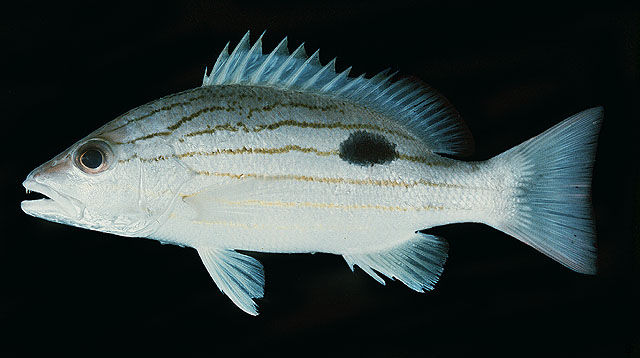fish: (20, 30, 604, 318)
